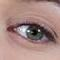eye: (27, 27, 43, 40)
